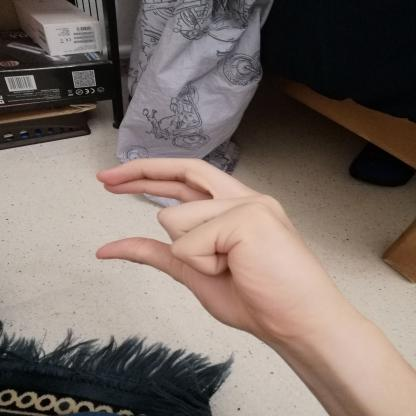DHELL: (78, 149, 312, 341)
